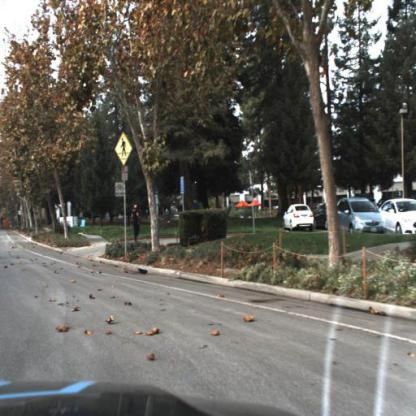car: (334, 198, 386, 238), (379, 197, 416, 240), (282, 200, 315, 234)
pedestrian: (131, 199, 143, 247)
